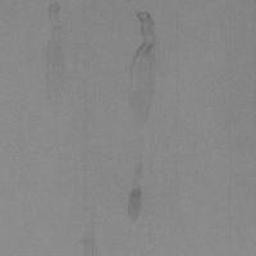Water spot: (125, 9, 159, 132), (44, 0, 69, 120), (125, 161, 145, 227), (78, 204, 102, 256)
